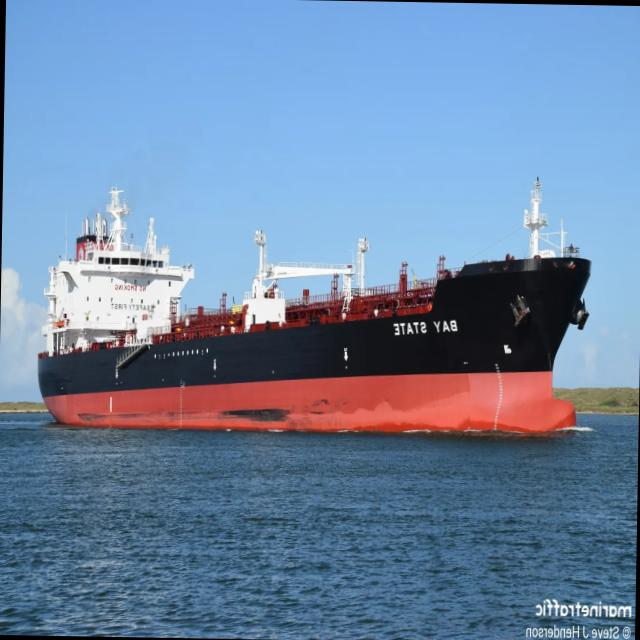Tanker: (38, 175, 593, 432)
